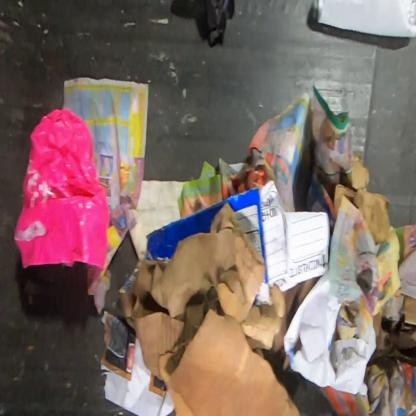cardboard: (118, 202, 324, 415), (145, 186, 268, 283), (332, 152, 392, 246), (366, 294, 415, 381)
soft_plastic: (13, 105, 110, 272), (204, 0, 236, 49)
